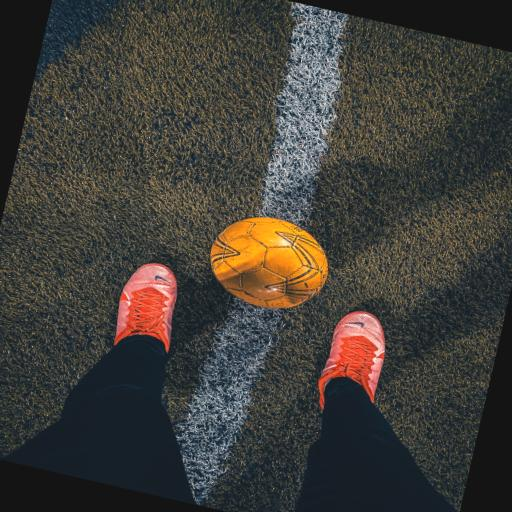shoe: (318, 312, 384, 408), (114, 263, 176, 352)
